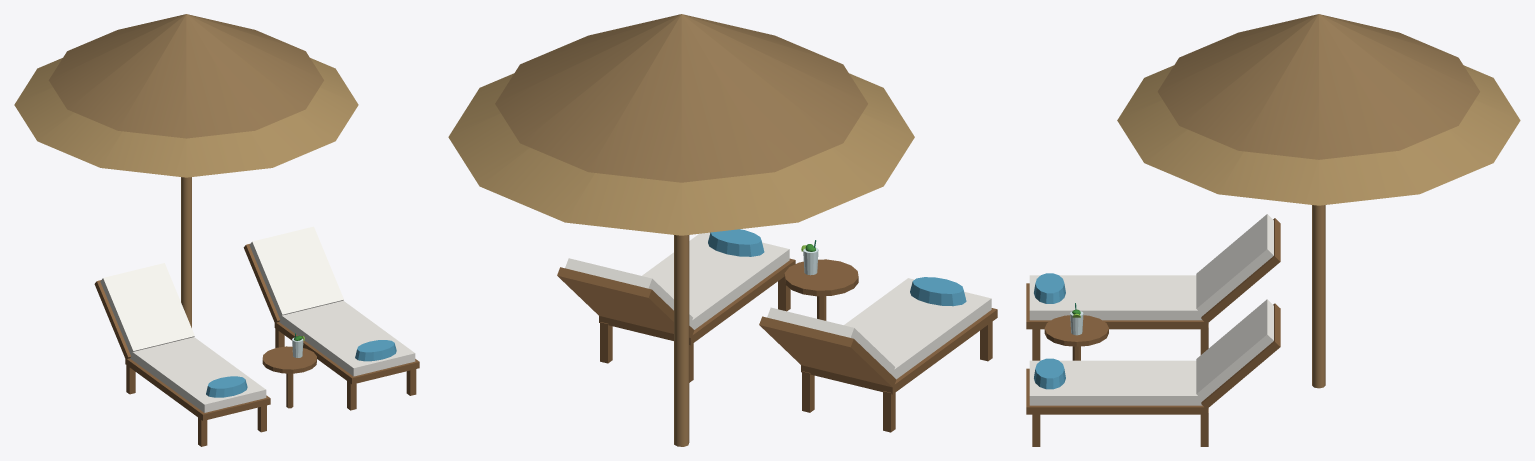
File: sunbed.glb
The picture shows the model from 3 angles, left to right: view 1: azimuth 30°, elevation 25°; view 2: azimuth 150°, elevation 25°; view 3: azimuth 270°, elevation 25°; orthographic projection. The views are drawn at different scales.
Parts seen in each view (by area): view 1: thatch2_20, thatch_19, cushion_12, cushion_3, cushion_1, cushion_10, post_18, teak_0, teak_9, teak_21, towel_8, towel_17 (+2 smaller); view 2: thatch2_20, thatch_19, cushion_1, cushion_10, teak_2, teak_11, post_18, teak_21, teak_0, teak_9, cushion_3, towel_8 (+2 smaller); view 3: thatch2_20, thatch_19, cushion_10, cushion_1, cushion_3, cushion_12, post_18, teak_9, teak_21, teak_0, teak_11, teak_2 (+2 smaller).
Part boxes in pixels (x1,y1,x2,y2): thatch2_20: (48, 14, 323, 138); thatch_19: (14, 58, 358, 177); cushion_12: (249, 226, 343, 317); cushion_3: (100, 263, 194, 354); cushion_1: (130, 337, 266, 412); cushion_10: (279, 300, 415, 376); post_18: (181, 177, 191, 327); teak_0: (125, 358, 270, 420); teak_9: (274, 322, 419, 384); teak_21: (262, 346, 316, 373); towel_8: (206, 376, 247, 397); towel_17: (355, 340, 396, 361); thatch2_20: (495, 14, 867, 182); thatch_19: (448, 73, 914, 235); cushion_1: (844, 278, 991, 379); cushion_10: (642, 232, 789, 329); teak_2: (759, 316, 896, 387); teak_11: (557, 267, 694, 338); post_18: (674, 235, 689, 446); teak_21: (784, 259, 858, 296); teak_0: (801, 308, 997, 394); teak_9: (599, 258, 795, 345); cushion_3: (767, 307, 894, 373); towel_8: (910, 277, 966, 306); thatch2_20: (1157, 14, 1479, 159); thatch_19: (1117, 65, 1520, 205); cushion_10: (1029, 360, 1204, 405); cushion_1: (1029, 275, 1204, 320); cushion_3: (1196, 214, 1273, 314); cushion_12: (1196, 299, 1273, 400); post_18: (1312, 205, 1325, 388); teak_9: (1026, 368, 1207, 414); teak_21: (1044, 315, 1108, 346); teak_0: (1026, 283, 1207, 329); teak_11: (1201, 303, 1280, 408); teak_2: (1201, 218, 1280, 323).
Bounding box in the file's own units: 3 × 3.05 × 3.68.
